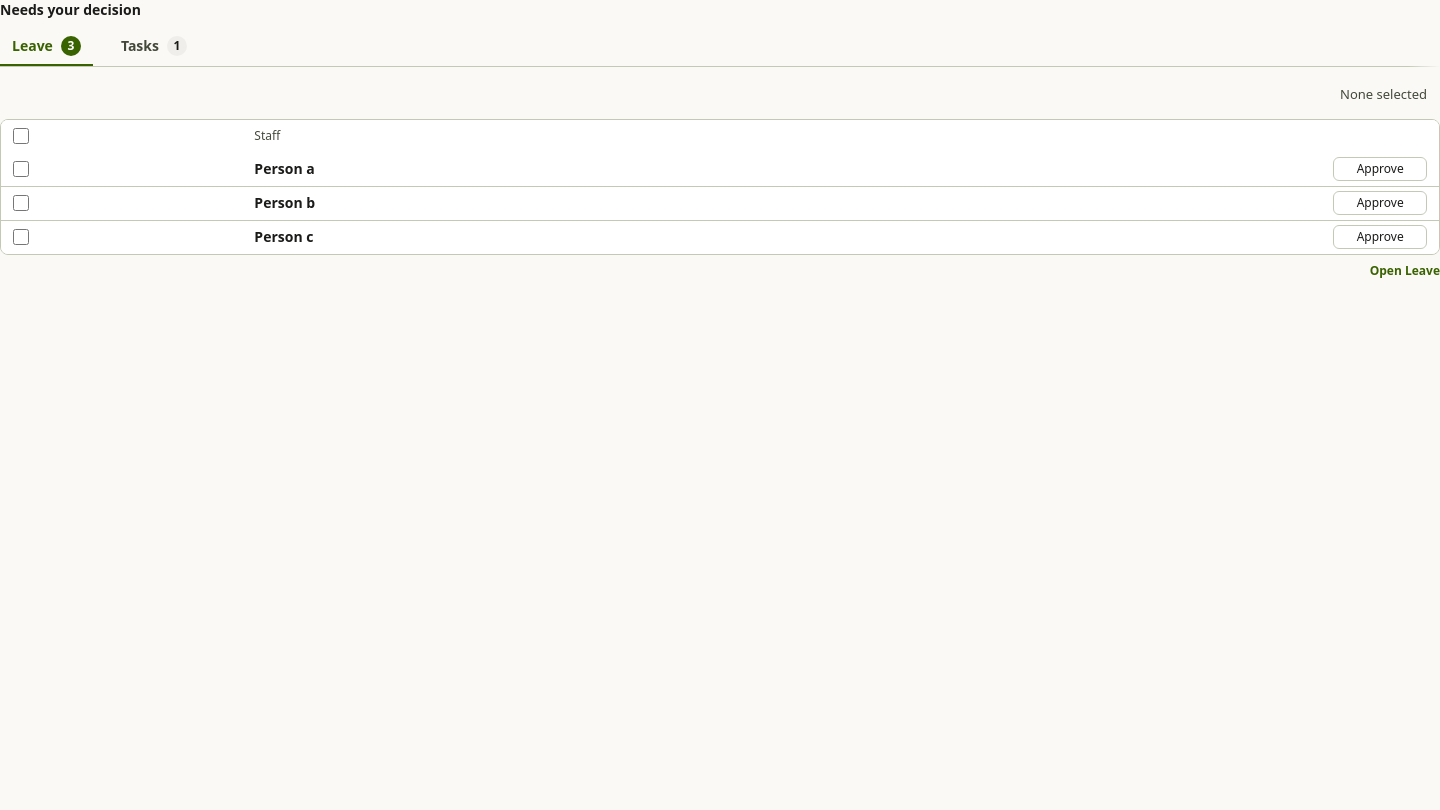
Test: NeedsYourDecision — bolder and bulk runs (decision-bulk SHAPE §2, §6) › keeps the tab open while a run is in flight though the refetch empties it mid-run, and lands the notice in its panel
The width and height of the screenshot is (1440, 810).
Click the checkbox named "Select all shown leave requests".
click(21, 136)  # box top-left (13, 128), bottom-right (29, 144)
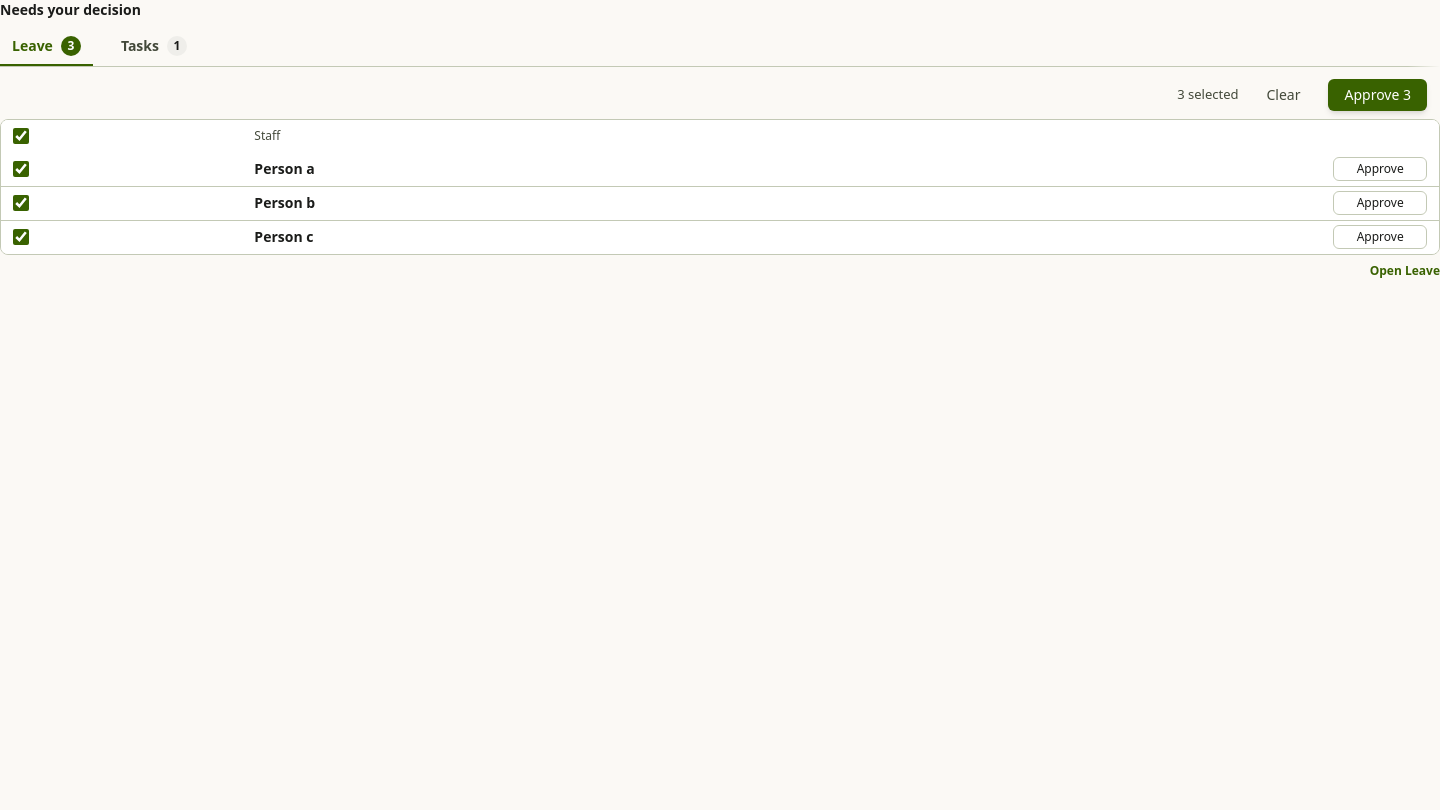
Click the button with aria-label "Approve 3 selected leave requests".
click(1378, 95)  # box top-left (1328, 79), bottom-right (1427, 111)
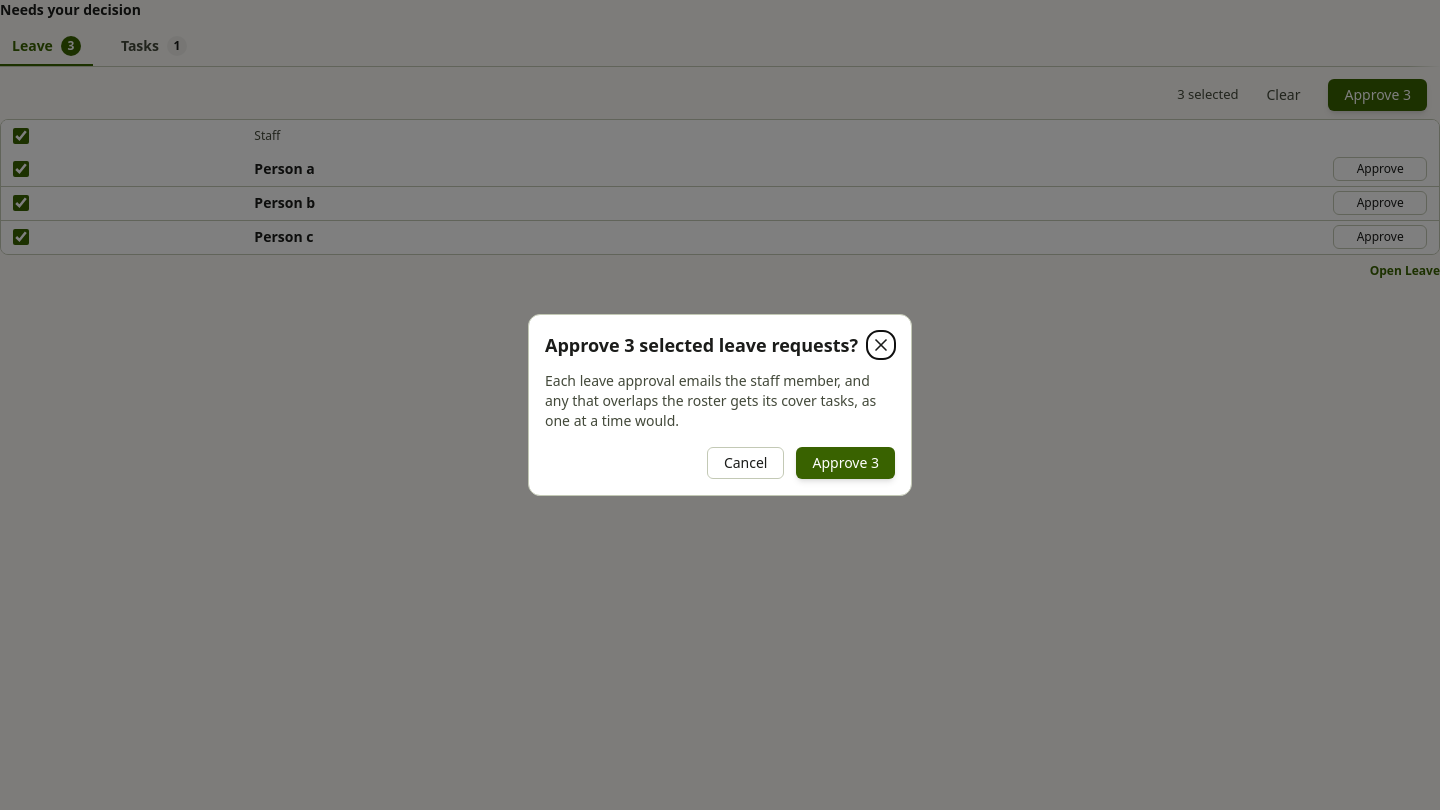
Click the button "Approve 3".
click(846, 463)  # box top-left (796, 447), bottom-right (895, 479)
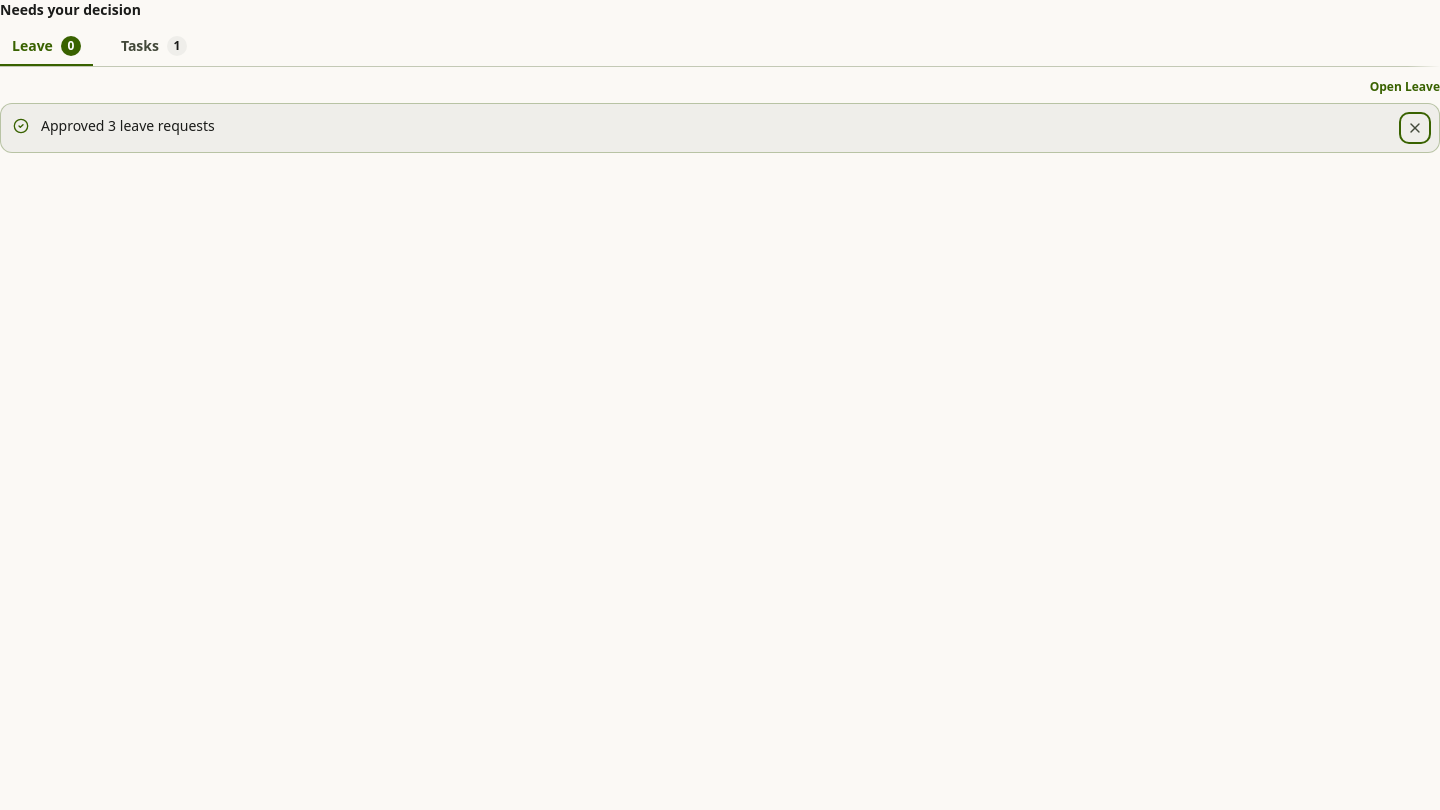
Expected: the text "Approved 3 leave requests" is shown, top-left (41, 116), bottom-right (215, 135)
